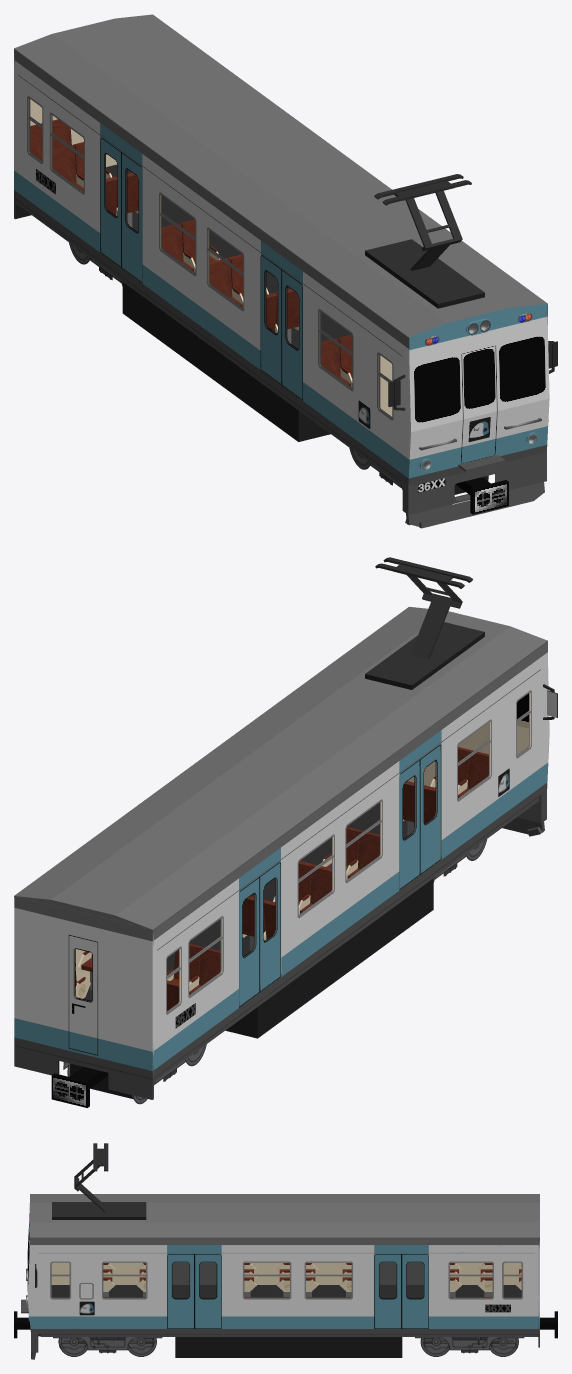
The model's file is motorp.obj.
3 renders of one model, top to bottom at view 1: azimuth 30°, elevation 25°; view 2: azimuth 150°, elevation 25°; view 3: azimuth 270°, elevation 25°, orthographic. The views are drawn at different scales.
Visible parts, largest first — view 1: body, body_inside, bogies, pantograph, door_RF, door_RB; view 2: body, body_inside, bogies, pantograph, door_RF, door_RB; view 3: body, body_inside, bogies, door_LB, door_LF, pantograph, door_RF_inside, door_RB_inside.
Boxes of the visible parts, box(x1,y1,x2,y2) form: body: box(14, 14, 557, 528); body_inside: box(15, 98, 545, 484); bogies: box(69, 242, 508, 514); pantograph: box(365, 174, 484, 308); door_RF: box(121, 152, 302, 400); door_RB: box(100, 137, 281, 384); body: box(14, 606, 557, 1099); body_inside: box(58, 692, 530, 1074); bogies: box(51, 839, 487, 1107); pantograph: box(365, 557, 484, 689); door_RF: box(260, 745, 441, 991); door_RB: box(239, 759, 419, 1007); body: box(26, 1194, 539, 1359); body_inside: box(51, 1262, 521, 1298); bogies: box(14, 1299, 557, 1357); door_LB: box(167, 1254, 401, 1328); door_LF: box(194, 1254, 428, 1328); pantograph: box(52, 1143, 146, 1219); door_RF_inside: box(172, 1262, 396, 1284); door_RB_inside: box(199, 1262, 423, 1284).
Bounding box in the file's own units: 2.88 × 4.81 × 12.43.
46 materials, 46 textured.
